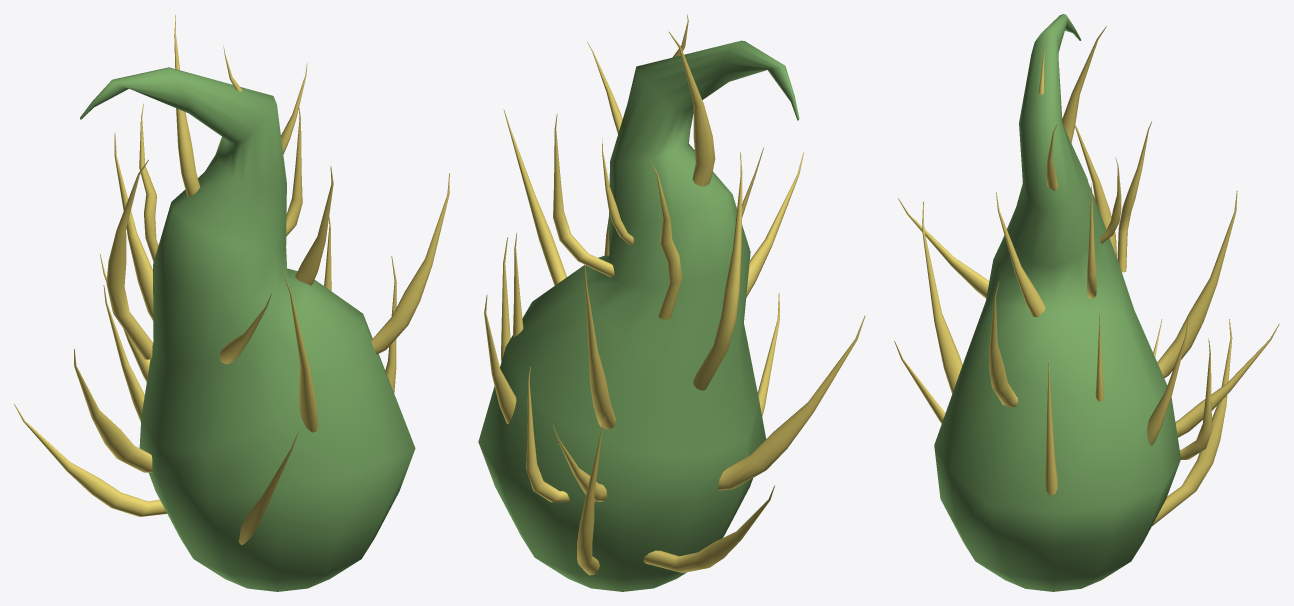
File: Cactus_1.fbx
The picture shows the model from 3 angles, left to right: view 1: azimuth 30°, elevation 25°; view 2: azimuth 150°, elevation 25°; view 3: azimuth 270°, elevation 25°; orthographic projection. The views are drawn at different scales.
Visible parts, largest first — view 1: pCylinder24; view 2: pCylinder24; view 3: pCylinder24.
Boxes of the visible parts, left/top/right/bottom form: pCylinder24: left=14, top=14, right=449, bottom=591; pCylinder24: left=478, top=14, right=865, bottom=591; pCylinder24: left=894, top=14, right=1279, bottom=591.
Bounding box in the file's own units: 0.125 × 0.1862 × 0.1247.
